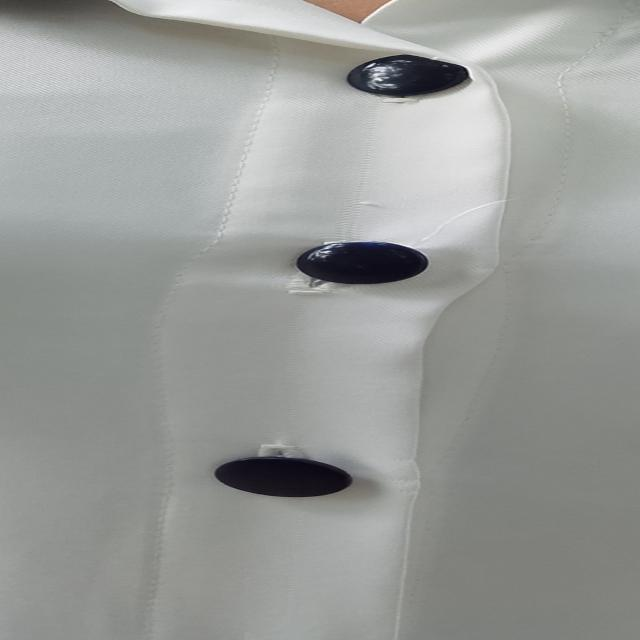education_female_uniform: (9, 0, 640, 620)
